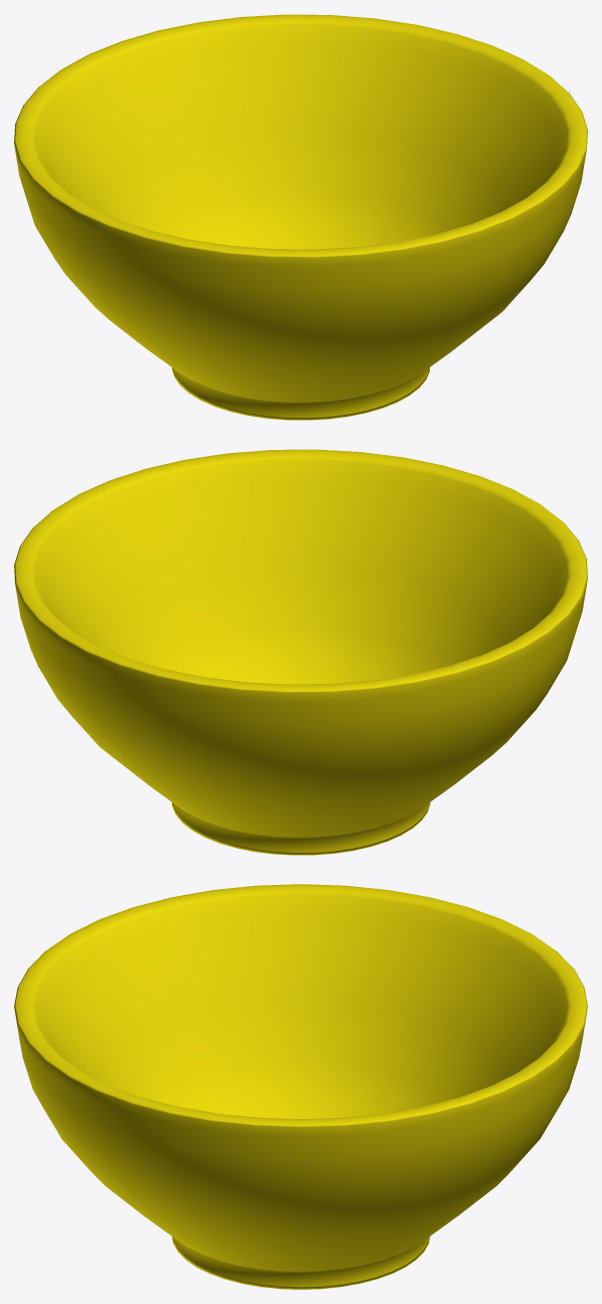
File: Bowl.fbx
3 views of the same model, one above another, from view 1: azimuth 30°, elevation 25°; view 2: azimuth 150°, elevation 25°; view 3: azimuth 270°, elevation 25° (orthographic).
Parts seen in each view (by area): view 1: Bowl; view 2: Bowl; view 3: Bowl.
Boxes of the visible parts, x1,y1,x2,y2 form: Bowl: [14, 14, 587, 420]; Bowl: [14, 449, 587, 855]; Bowl: [14, 884, 587, 1289].
Size of the model in its own units: 89.08 by 39.92 by 89.08.
